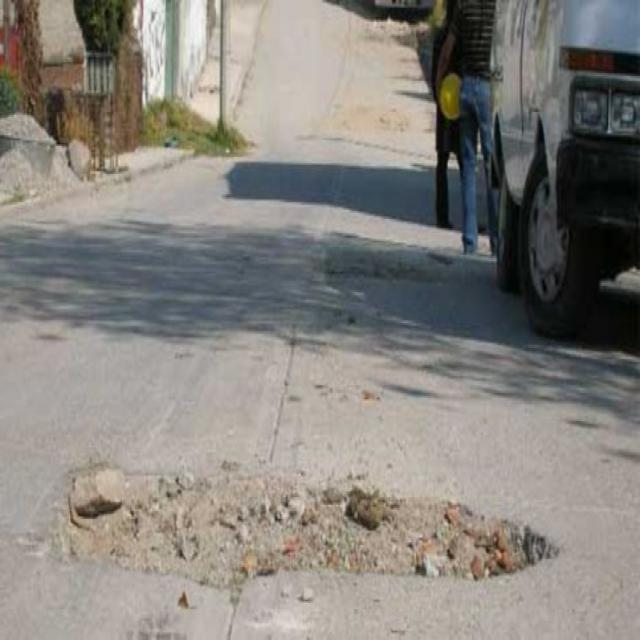Pothole: (54, 460, 564, 585)
